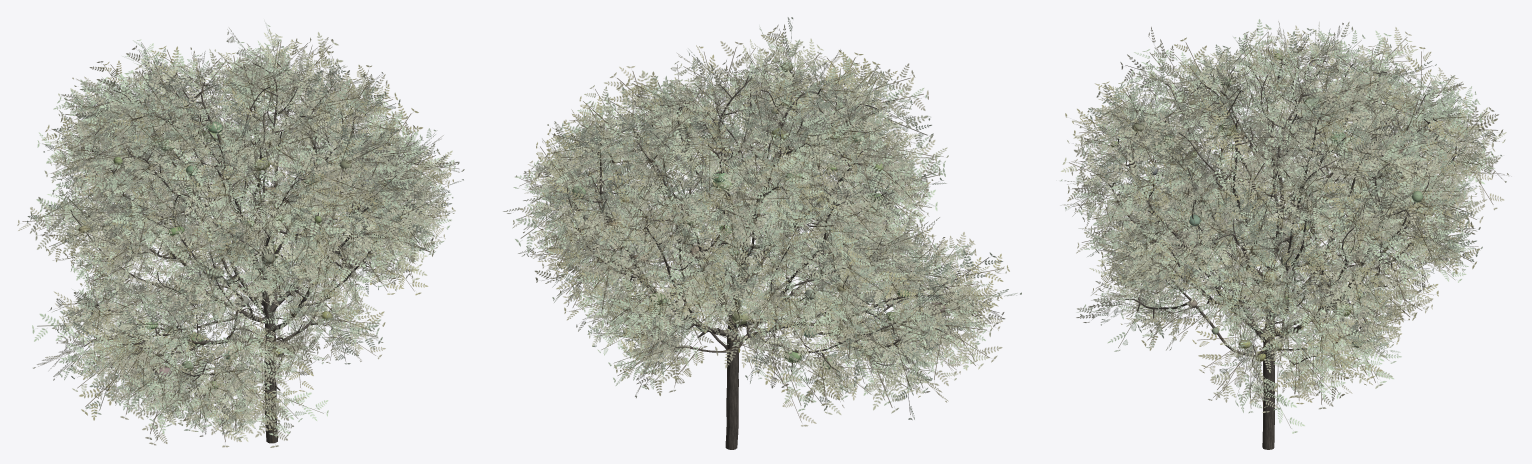
The model's file is tree_34_broadleaf.glb.
3 renders of one model, left to right at view 1: azimuth 30°, elevation 25°; view 2: azimuth 150°, elevation 25°; view 3: azimuth 270°, elevation 25°, orthographic. The views are drawn at different scales.
Visible parts, largest first — view 1: tree_34_broadleaf.leaves, tree_34_broadleaf.trunk_branches, tree_34_broadleaf.foliage_volume; view 2: tree_34_broadleaf.leaves, tree_34_broadleaf.trunk_branches, tree_34_broadleaf.foliage_volume; view 3: tree_34_broadleaf.leaves, tree_34_broadleaf.trunk_branches, tree_34_broadleaf.foliage_volume.
Part boxes in pixels (left/top/right/bottom): tree_34_broadleaf.leaves: left=17, top=20, right=464, bottom=447; tree_34_broadleaf.trunk_branches: left=70, top=63, right=418, bottom=443; tree_34_broadleaf.foliage_volume: left=78, top=84, right=393, bottom=389; tree_34_broadleaf.leaves: left=503, top=17, right=1021, bottom=426; tree_34_broadleaf.trunk_branches: left=563, top=71, right=958, bottom=449; tree_34_broadleaf.foliage_volume: left=572, top=62, right=946, bottom=369; tree_34_broadleaf.leaves: left=1060, top=19, right=1511, bottom=433; tree_34_broadleaf.trunk_branches: left=1108, top=59, right=1460, bottom=449; tree_34_broadleaf.foliage_volume: left=1111, top=53, right=1424, bottom=361.
Bounding box in the file's own units: 13.66 × 11.65 × 12.58.
Materials: 3 (2 with a texture image).
